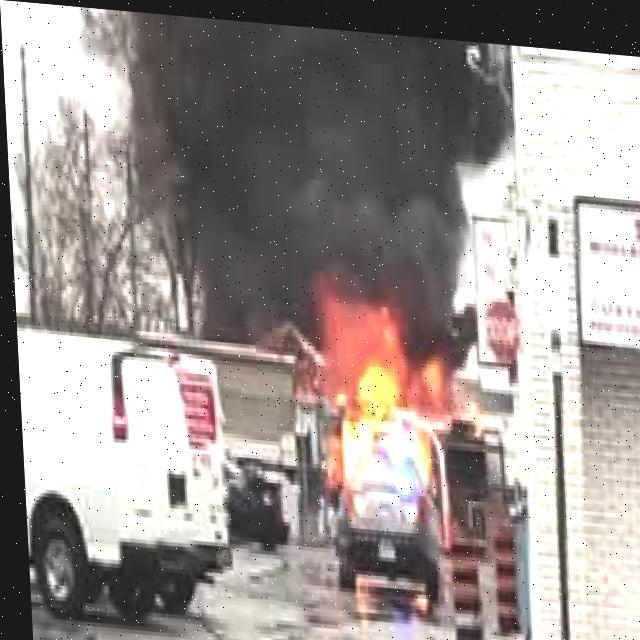Fire: (283, 263, 455, 522)
